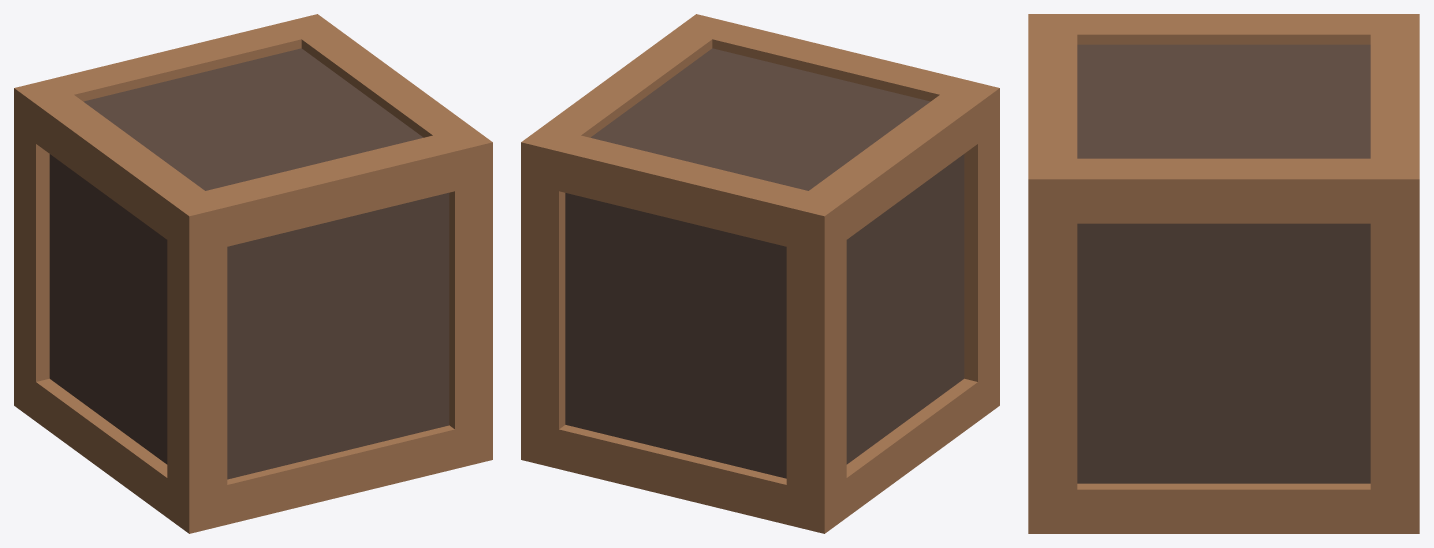
The picture shows the model from 3 angles, left to right: view 1: azimuth 30°, elevation 25°; view 2: azimuth 150°, elevation 25°; view 3: azimuth 270°, elevation 25°; orthographic projection. The views are drawn at different scales.
Parts seen in each view (by area): view 1: panels, frame; view 2: panels, frame; view 3: panels, frame.
Part boxes in pixels (box(x1,y1,x2,y2)): panels: box(49, 48, 449, 479); frame: box(14, 14, 492, 533); panels: box(565, 48, 964, 478); frame: box(521, 14, 999, 533); panels: box(1077, 44, 1370, 483); frame: box(1028, 14, 1419, 533).
Bounding box in the file's own units: 0.6 × 0.6 × 0.6.
